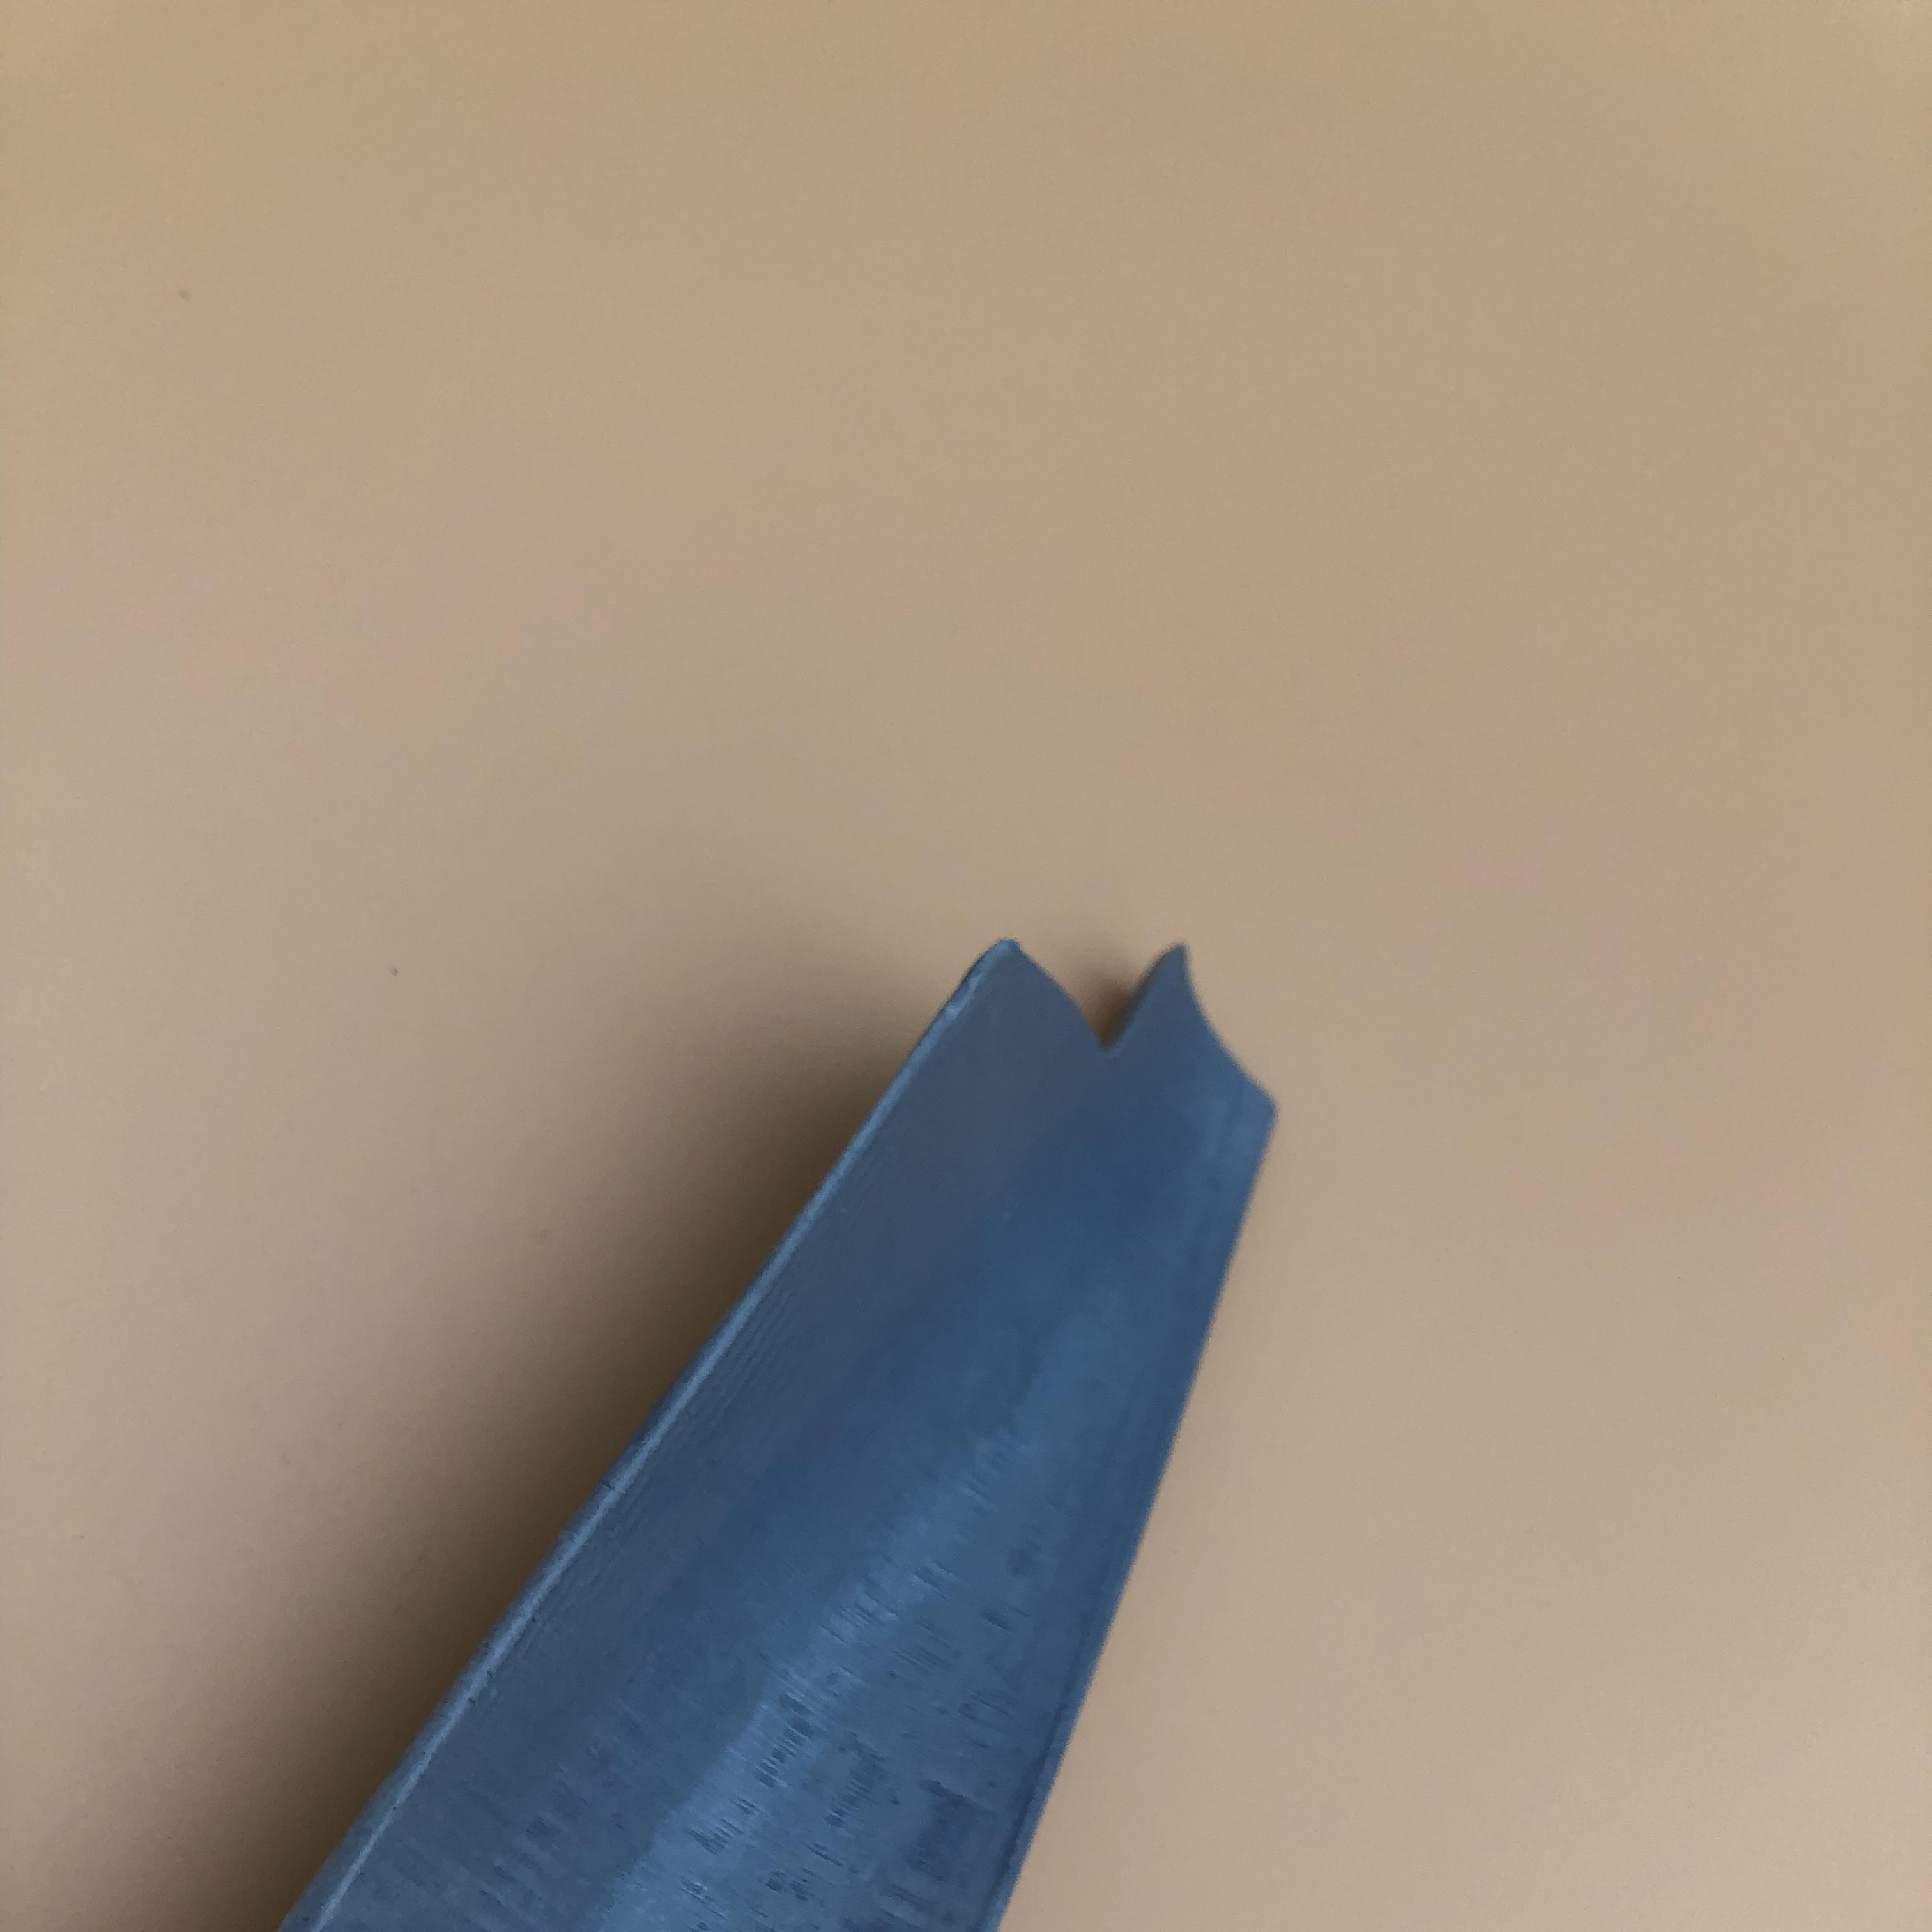fracture: (985, 939, 1203, 1051)
